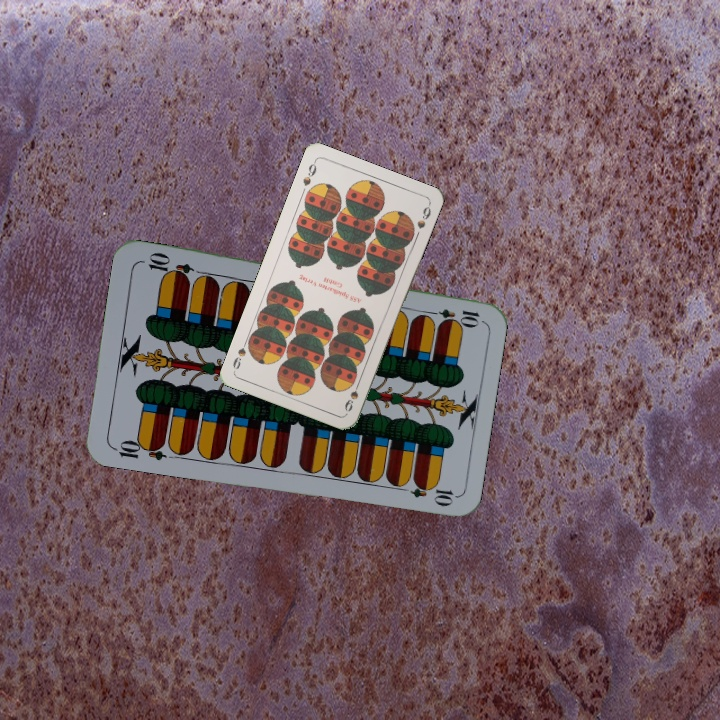E10: (109, 435, 168, 463), (423, 305, 482, 326)
S9: (340, 376, 363, 414), (299, 157, 319, 188)
